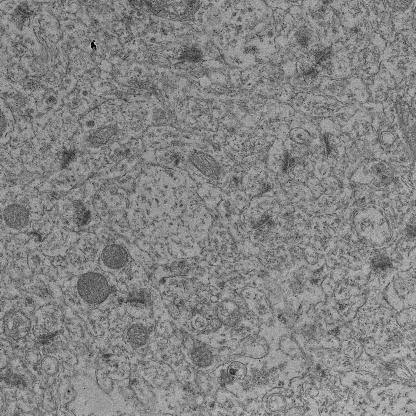mitochondria: (74, 271, 112, 306), (188, 150, 223, 180), (124, 320, 152, 349), (3, 201, 30, 231), (190, 341, 216, 372), (101, 242, 130, 269), (86, 126, 118, 147)
